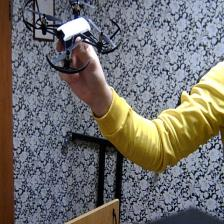drone: (19, 0, 125, 76)
